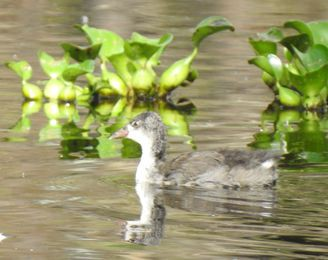water_hyacinth: (13, 7, 328, 112)
